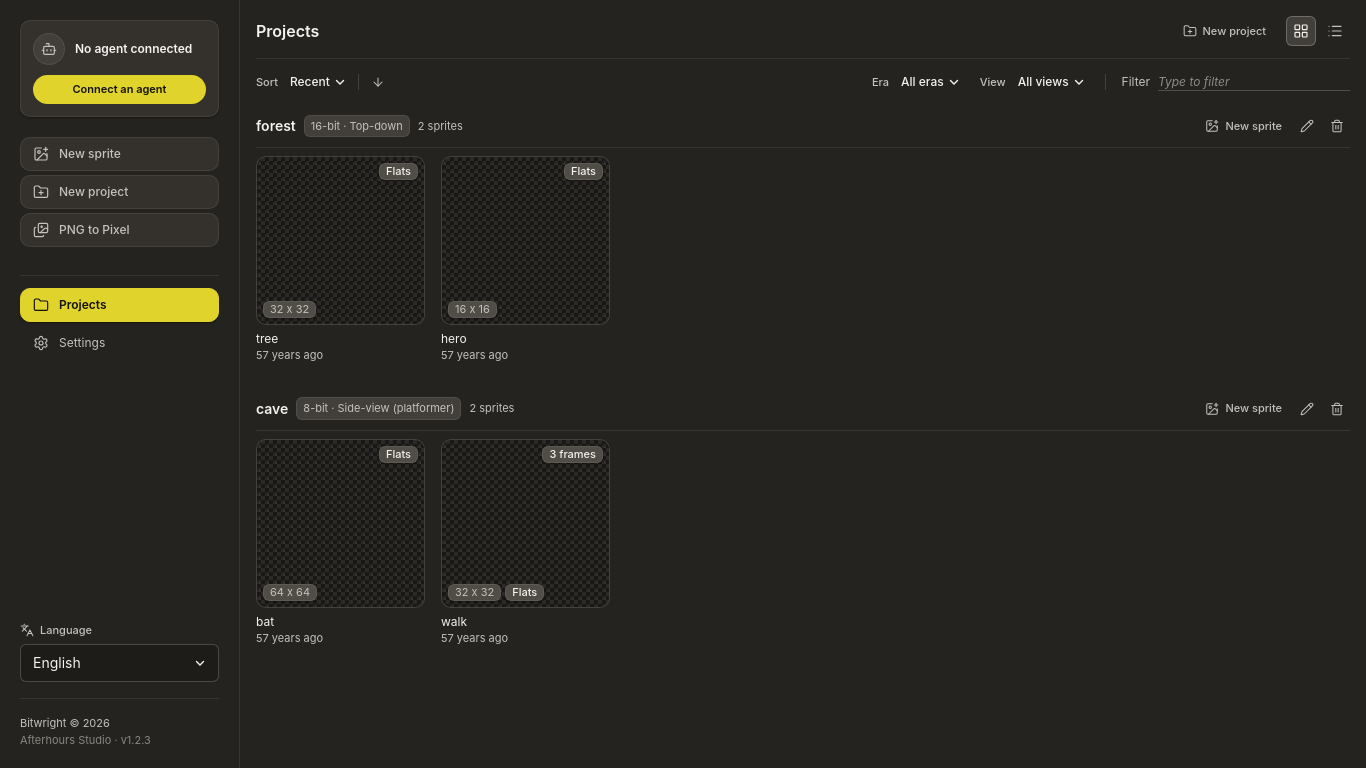
Test case: HomeScreen with an animation › sorts by frames and shows a Frames column in the list
Expected: the button named "Open walk" is shown, x1=442 y1=440 x2=609 y2=606
Click the dropdown named "Sort": (318, 82) x1=286 y1=72 x2=350 y2=92
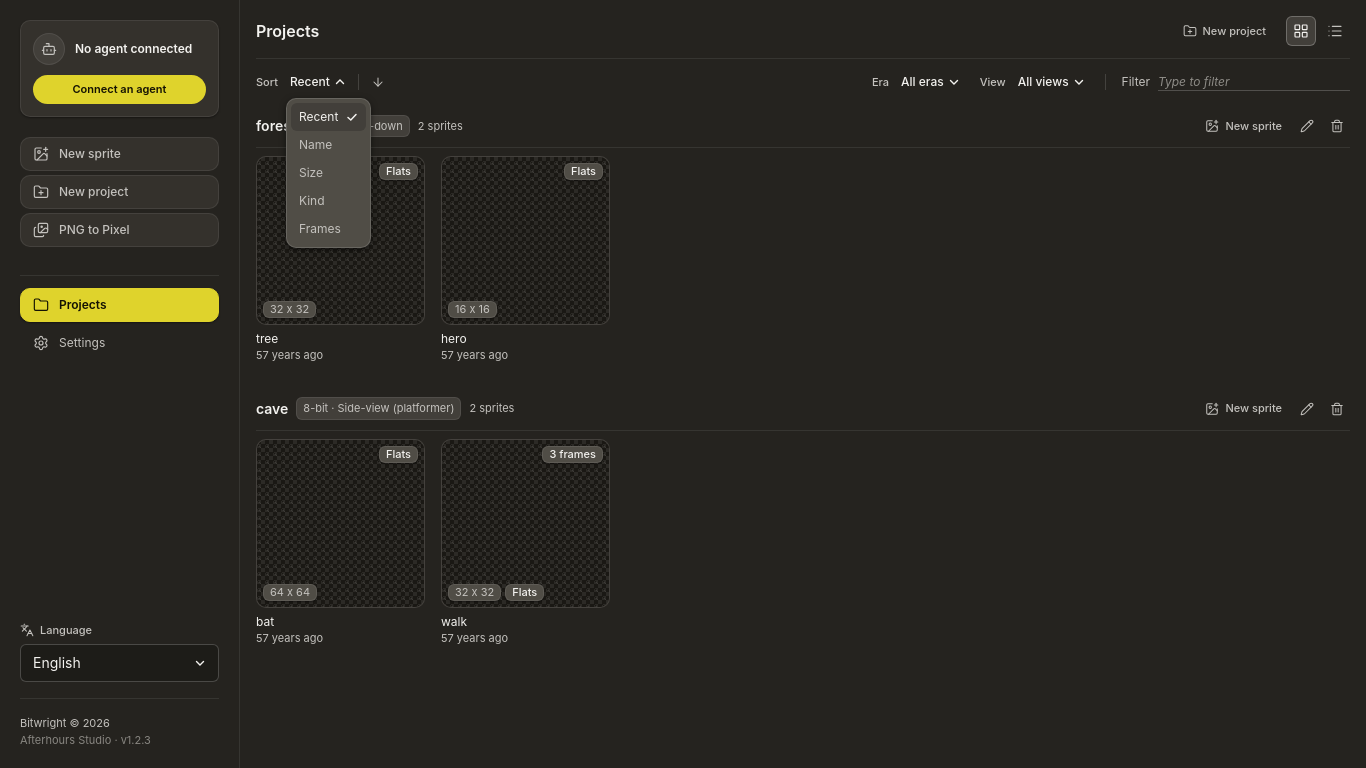
Click the option "Frames": (329, 229) x1=291 y1=215 x2=366 y2=243
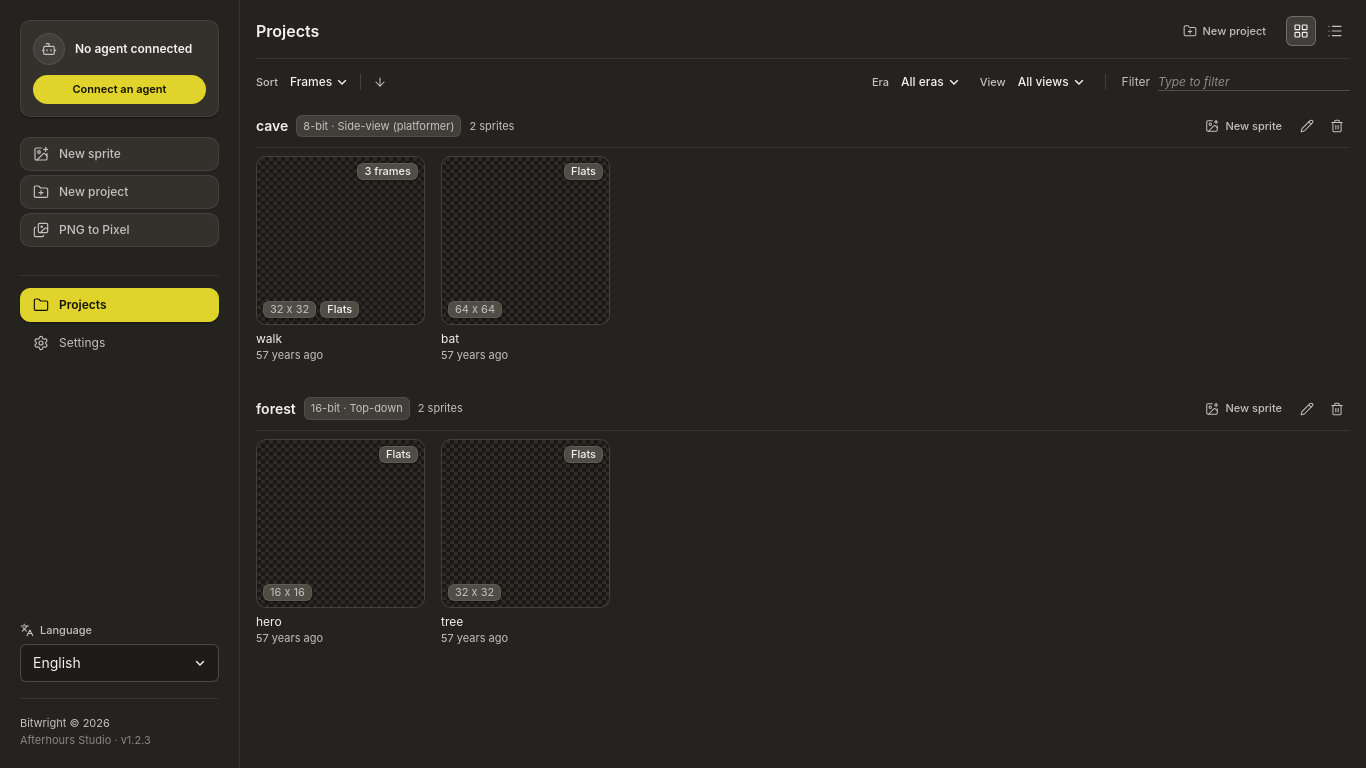
Click the button named "List view": (1335, 31) x1=1320 y1=16 x2=1350 y2=46
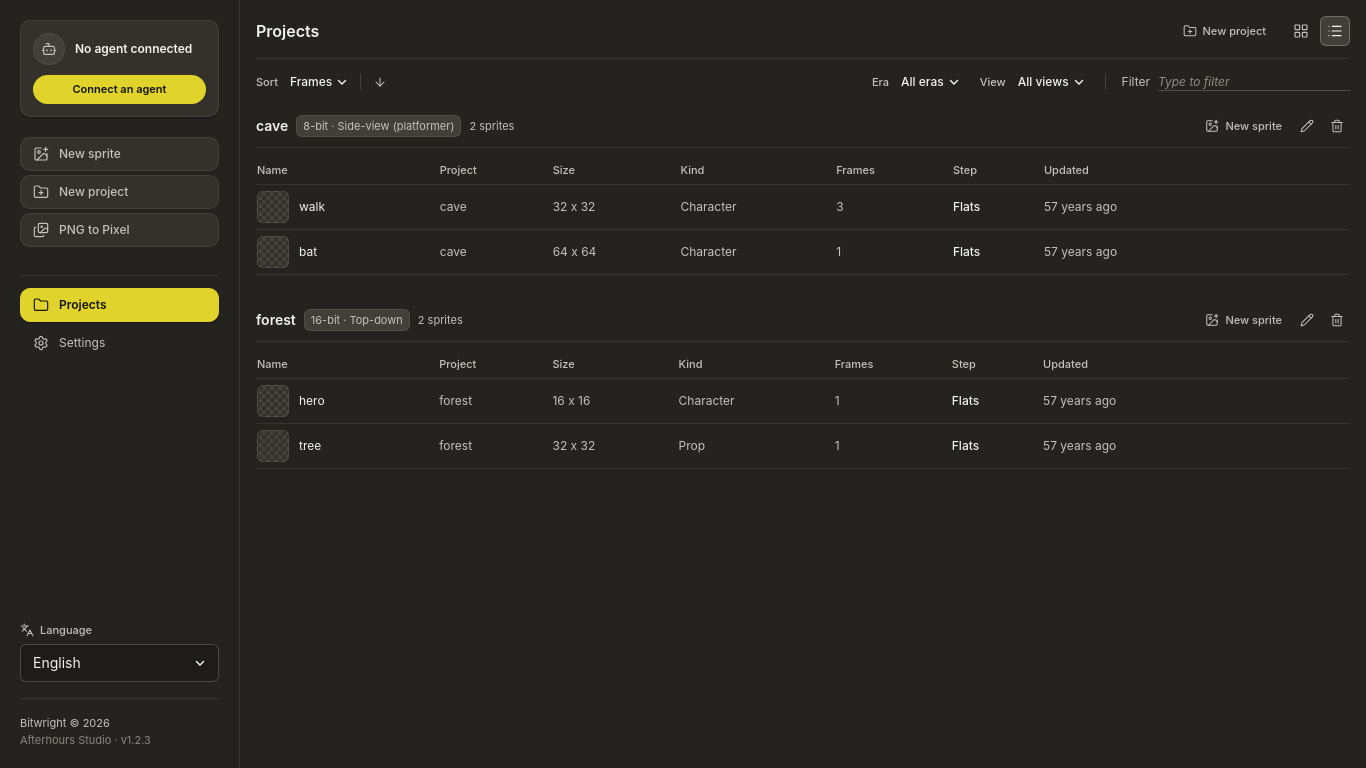
Now the 1st column heading "Frames" is shown, box x1=835 y1=156 x2=952 y2=184
